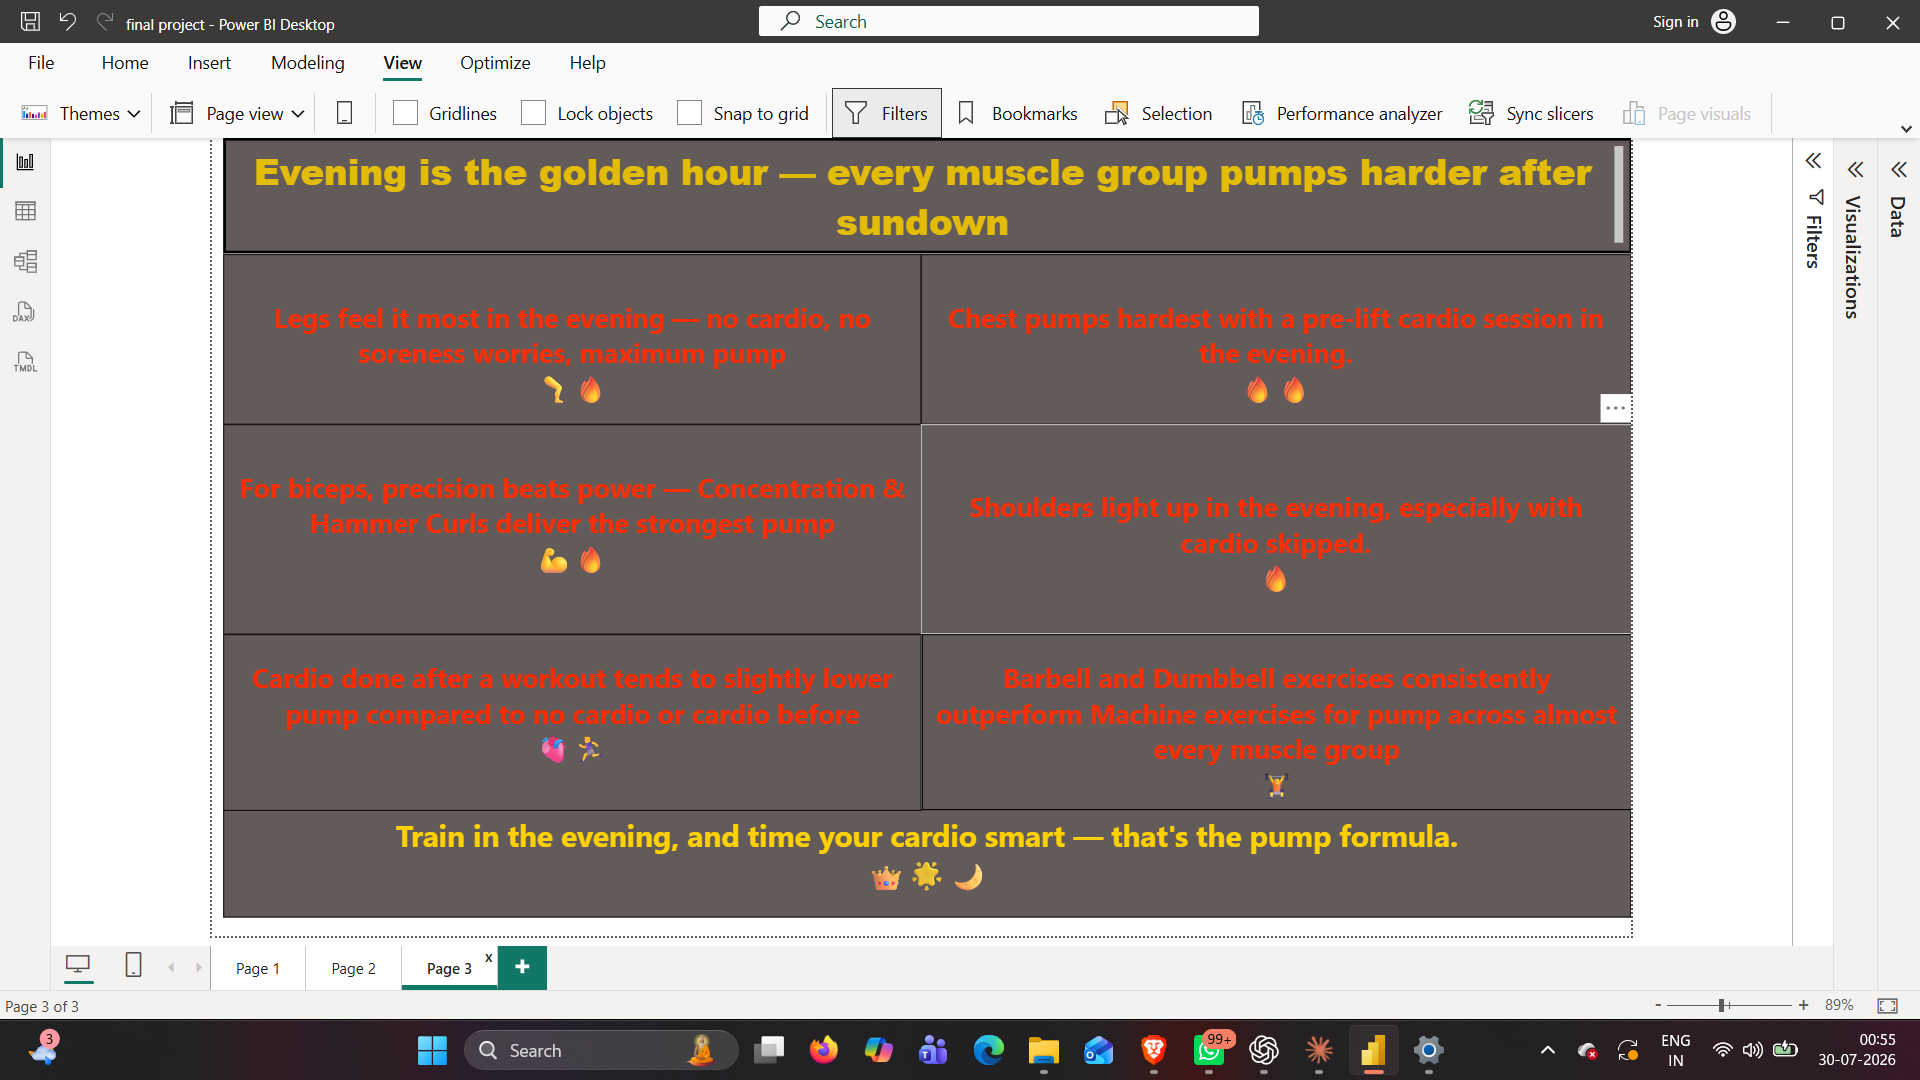

What the dashboard file says about the page in this screenshot:
{"tool":"powerbi","page":{"name":"Page 3","canvas":[1280,720],"ordinal":2},"visuals":[{"type":"textbox","box":[9.6,0,1270.7,104.3],"z":0},{"type":"textbox","box":[9.6,104.3,629.8,153.7],"z":1000},{"type":"textbox","box":[639.5,104.3,640.8,153.7],"z":2000},{"type":"textbox","box":[9.6,258,629.8,189.4],"z":3000},{"type":"textbox","box":[639.5,258,640.8,189.4],"z":4000},{"type":"textbox","box":[9.6,605.1,1269.3,97.4],"z":5000},{"type":"textbox","box":[9.6,447.3,629.8,159.2],"z":6000},{"type":"textbox","box":[640,447,640,158],"z":7000}]}

Visuals, with their boxes on the page's 1280x720 design canvas (x1, y1, x2, y2). These are canvas units, not pixel positions in the 1920x1080 screenshot, which may show the page scaled, cropped or inside an application window:
textbox: Rect(10, 0, 1280, 104)
textbox: Rect(10, 104, 639, 258)
textbox: Rect(640, 104, 1280, 258)
textbox: Rect(10, 258, 639, 447)
textbox: Rect(640, 258, 1280, 447)
textbox: Rect(10, 605, 1279, 702)
textbox: Rect(10, 447, 639, 606)
textbox: Rect(640, 447, 1280, 605)
